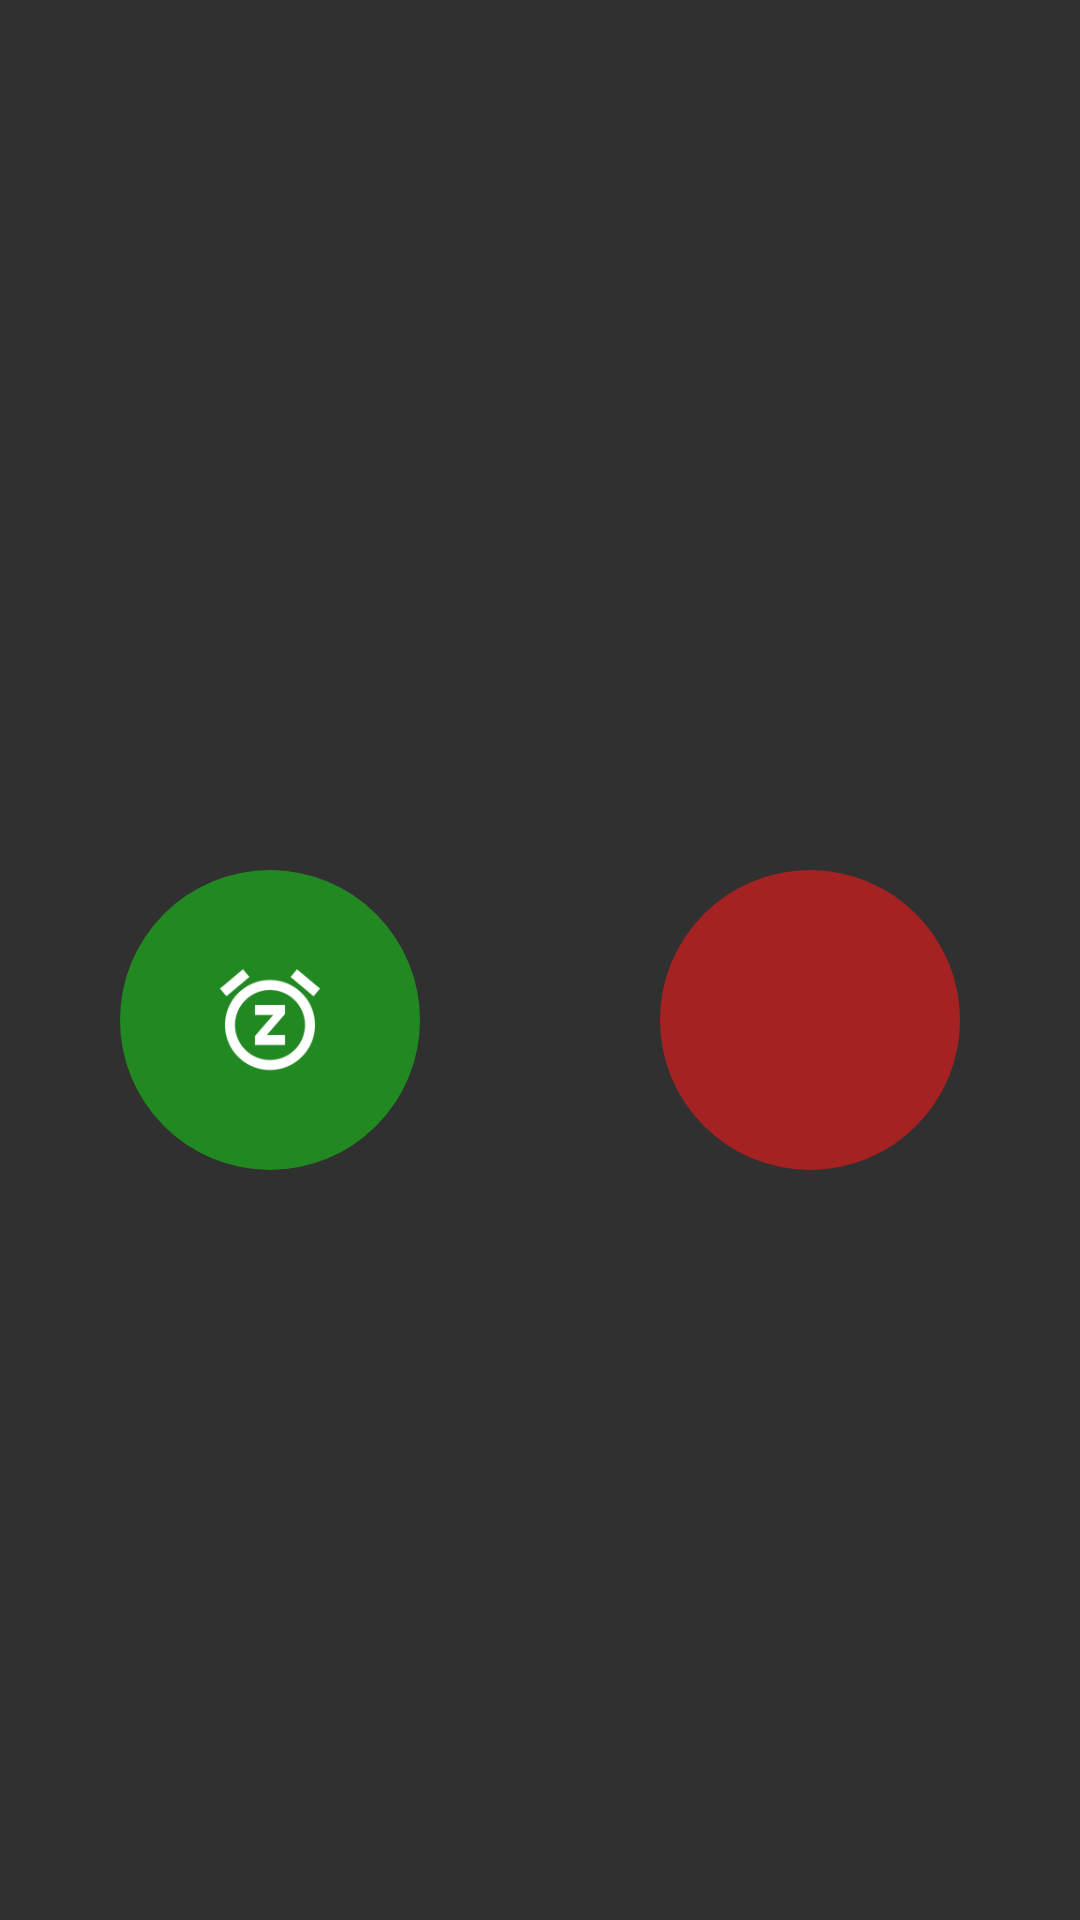

Where to tap for icons on this 1080x1920 app screen, as (x=x, y=y):
alarm post pone: (x=270, y=1020)
